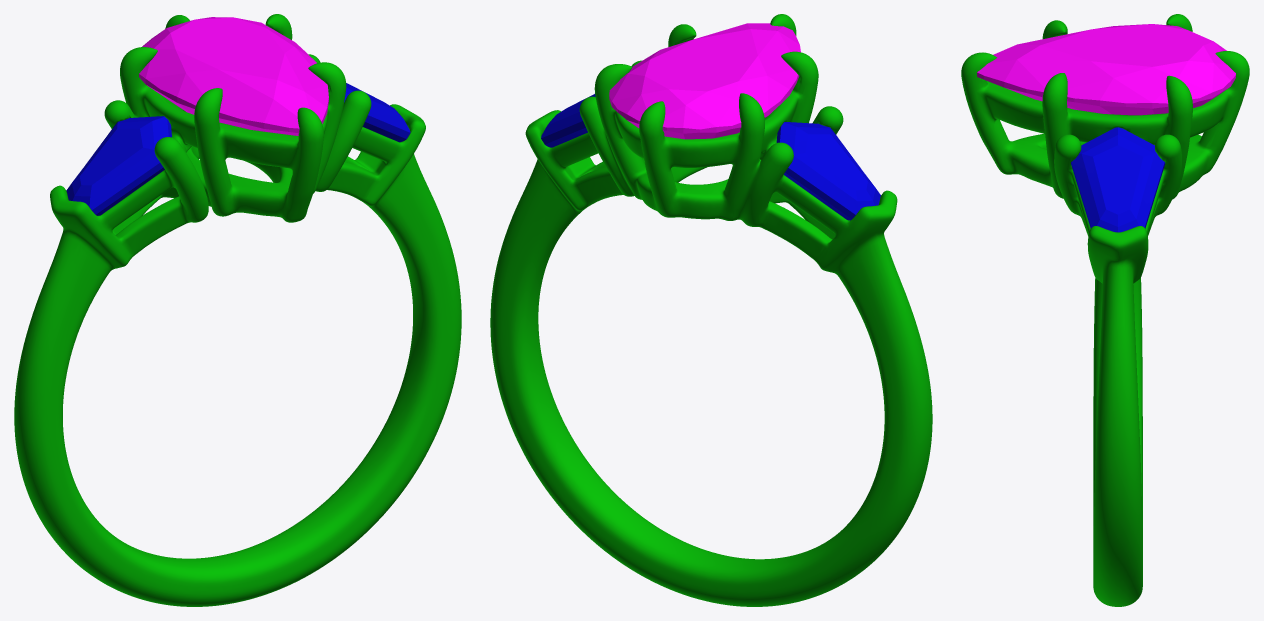
File: BE1D157_PE_200ct_RENDER.glb
3 renders of one model, left to right at view 1: azimuth 30°, elevation 25°; view 2: azimuth 150°, elevation 25°; view 3: azimuth 270°, elevation 25°, orthographic.
Visible parts, largest first — view 1: Metal 01, CS_Diamond_Pear, Diamond_Marquise_side.001, Diamond_Marquise_side; view 2: Metal 01, CS_Diamond_Pear, Diamond_Marquise_side.001, Diamond_Marquise_side; view 3: Metal 01, CS_Diamond_Pear, Diamond_Marquise_side.
Part boxes in pixels (<box>): Metal 01: <box>14,14,461,606</box>; CS_Diamond_Pear: <box>139,17,328,135</box>; Diamond_Marquise_side.001: <box>66,116,171,215</box>; Diamond_Marquise_side: <box>344,83,410,142</box>; Metal 01: <box>490,14,932,606</box>; CS_Diamond_Pear: <box>609,23,800,139</box>; Diamond_Marquise_side.001: <box>776,122,880,220</box>; Diamond_Marquise_side: <box>541,94,595,147</box>; Metal 01: <box>961,14,1249,606</box>; CS_Diamond_Pear: <box>977,24,1235,115</box>; Diamond_Marquise_side: <box>1071,127,1165,232</box>.
Bounding box in the file's own units: 20.14 × 23.94 × 11.63.
